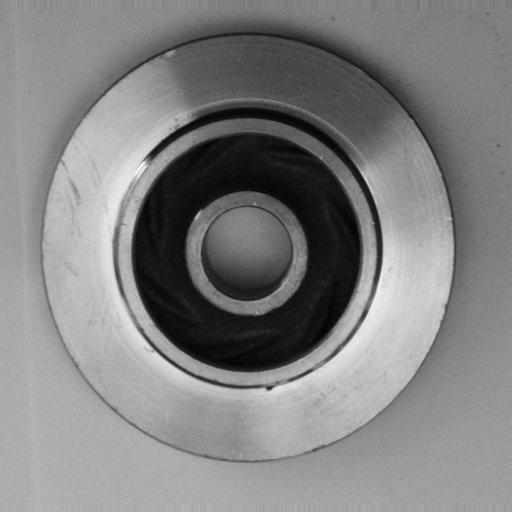crack: (249, 380, 294, 397)
scratch: (109, 152, 153, 241)
unpolished_casting: (35, 28, 459, 467)
